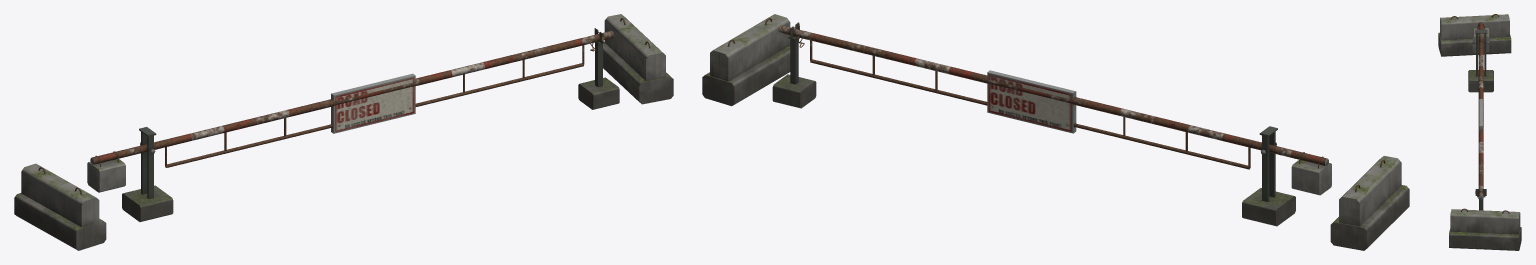
The model's file is gate.glb.
The picture shows the model from 3 angles, left to right: view 1: azimuth 30°, elevation 25°; view 2: azimuth 150°, elevation 25°; view 3: azimuth 270°, elevation 25°; orthographic projection. The views are drawn at different scales.
Parts seen in each view (by area): view 1: gate; view 2: gate; view 3: gate.
Boxes of the visible parts, x1=… form: gate: x1=14, y1=14, x2=673, y2=250; gate: x1=702, y1=14, x2=1409, y2=250; gate: x1=1438, y1=14, x2=1521, y2=250.
Size of the model in its own units: 11.9 by 1.48 by 2.01.
Materials: 1 (1 with a texture image).
